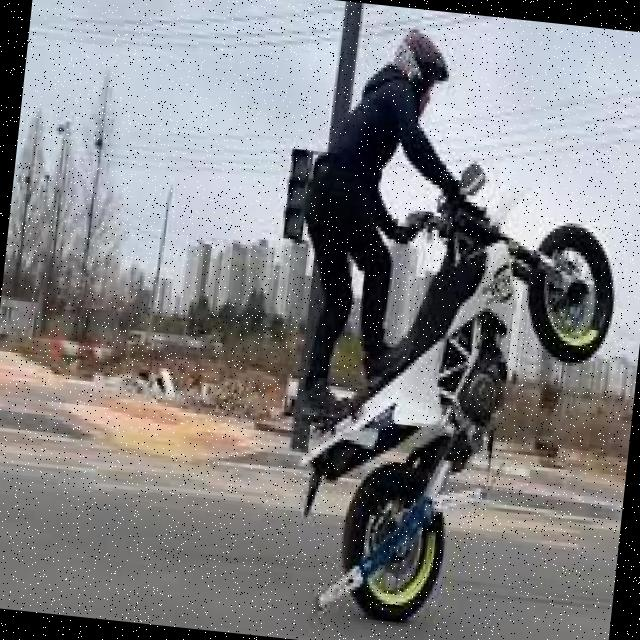Wheeling: (279, 11, 640, 640)
